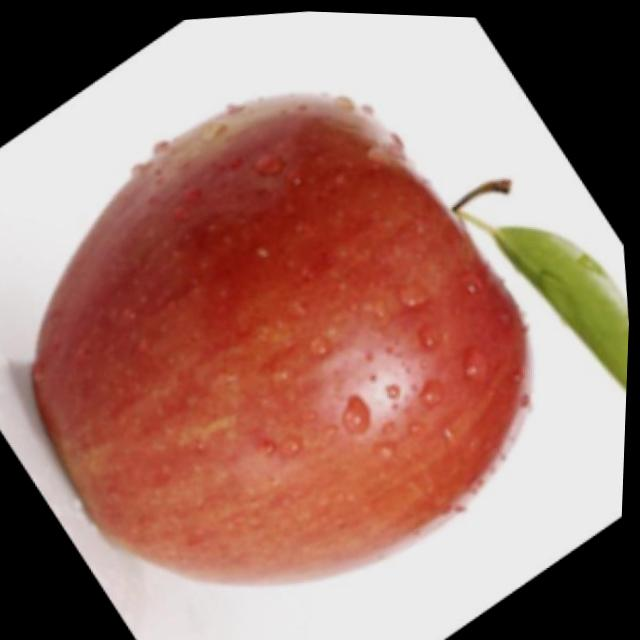Apple: (0, 56, 565, 614)
